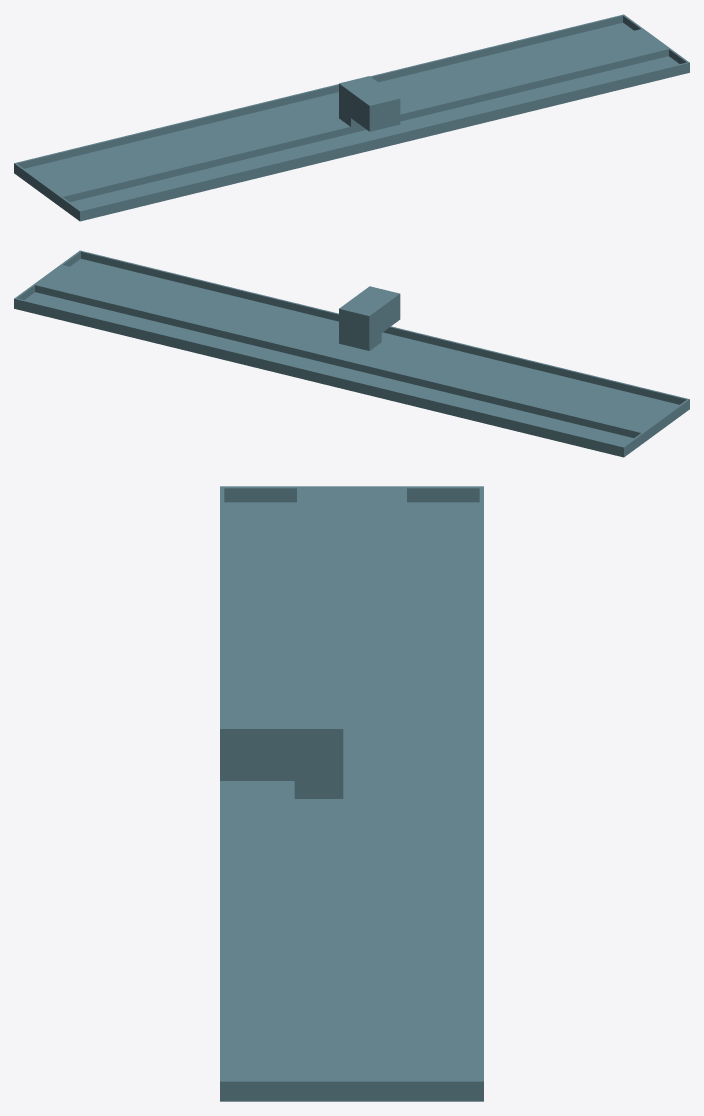
Rendered from subway-platform-silhouette-01.glb.
3 renders of one model, top to bottom at view 1: azimuth 30°, elevation 25°; view 2: azimuth 150°, elevation 25°; view 3: azimuth 270°, elevation 25°, orthographic. The views are drawn at different scales.
Parts seen in each view (by area): view 1: IslandPlatform, UndergroundFloor, OuterTrackEdge, OuterTrackEdge.001, EntranceCorridorMass, PlatformAccessMass, TrackEndCap; view 2: IslandPlatform, UndergroundFloor, OuterTrackEdge.001, OuterTrackEdge, PlatformAccessMass, EntranceCorridorMass, TrackEndCap, TrackEndCap.001; view 3: UndergroundFloor, IslandPlatform, EntranceCorridorMass, PlatformAccessMass, TrackEndCap.001, OuterTrackEdge.001, TrackEndCap, OuterTrackEdge.
Boxes of the visible parts, left/top/right/bottom form: IslandPlatform: left=33, top=28, right=670, bottom=203; UndergroundFloor: left=14, top=23, right=689, bottom=221; OuterTrackEdge: left=79, top=62, right=689, bottom=218; OuterTrackEdge.001: left=14, top=14, right=624, bottom=170; EntranceCorridorMass: left=348, top=82, right=400, bottom=131; PlatformAccessMass: left=339, top=76, right=378, bottom=126; TrackEndCap: left=14, top=163, right=81, bottom=218; IslandPlatform: left=33, top=264, right=670, bottom=437; UndergroundFloor: left=14, top=259, right=689, bottom=457; OuterTrackEdge.001: left=14, top=298, right=624, bottom=454; OuterTrackEdge: left=79, top=250, right=689, bottom=404; PlatformAccessMass: left=339, top=300, right=381, bottom=350; EntranceCorridorMass: left=348, top=286, right=400, bottom=332; TrackEndCap: left=622, top=399, right=689, bottom=454; TrackEndCap.001: left=14, top=251, right=80, bottom=305; UndergroundFloor: left=220, top=502, right=483, bottom=1101; IslandPlatform: left=297, top=486, right=406, bottom=1095; EntranceCorridorMass: left=220, top=699, right=307, bottom=780; PlatformAccessMass: left=294, top=699, right=343, bottom=798; TrackEndCap.001: left=220, top=1079, right=483, bottom=1095; OuterTrackEdge.001: left=479, top=486, right=483, bottom=1095; TrackEndCap: left=220, top=486, right=483, bottom=502; OuterTrackEdge: left=220, top=486, right=224, bottom=1095.
Bounding box in the file's own units: 64 × 4.5 × 12.
